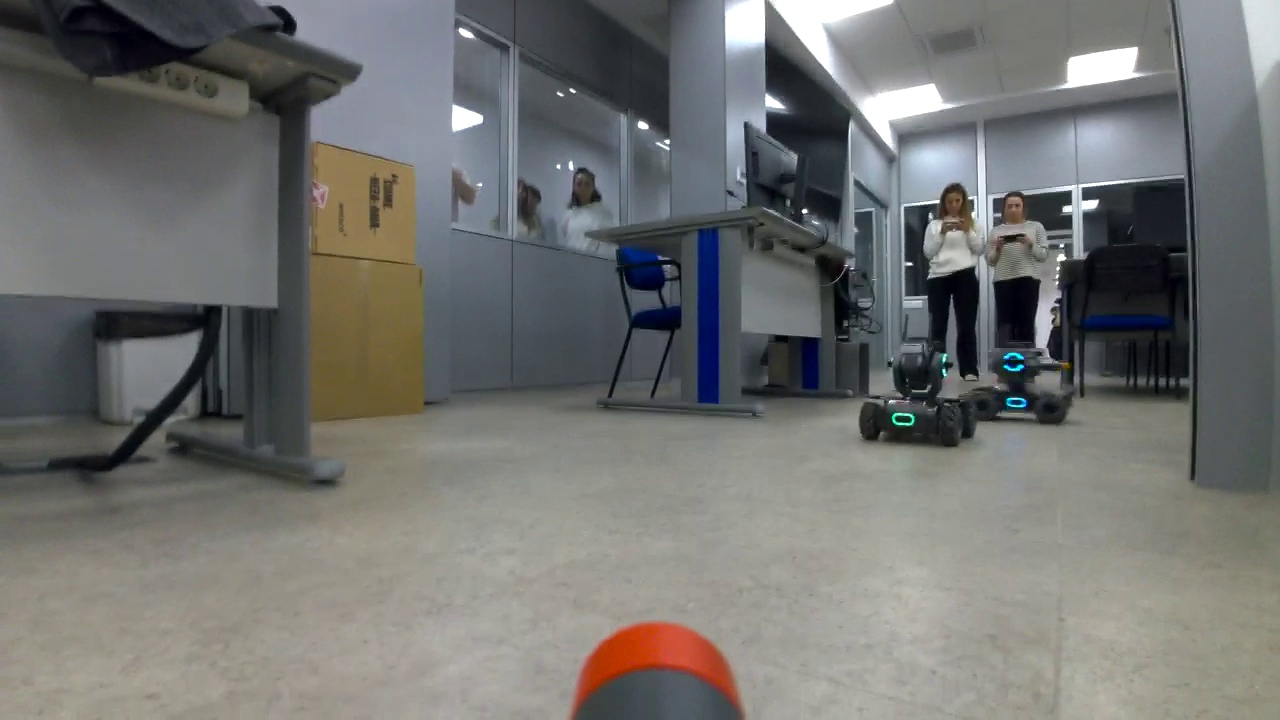robot: (857, 337, 977, 446), (969, 347, 1075, 430)
